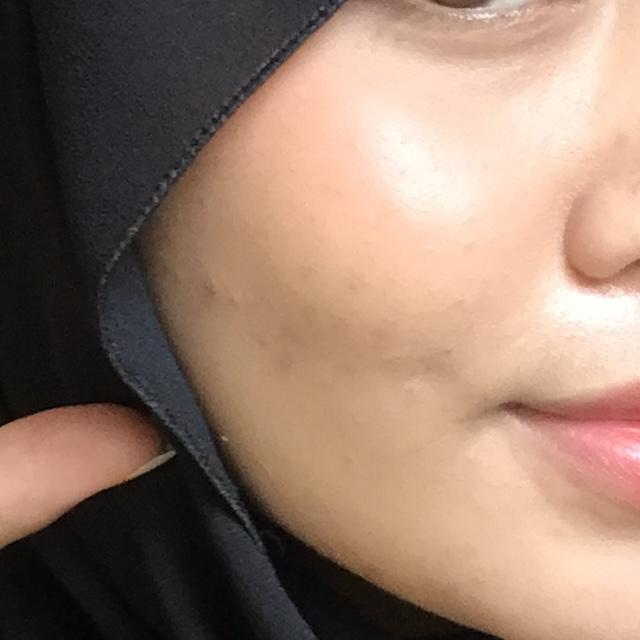mendengar: (0, 0, 400, 640)
